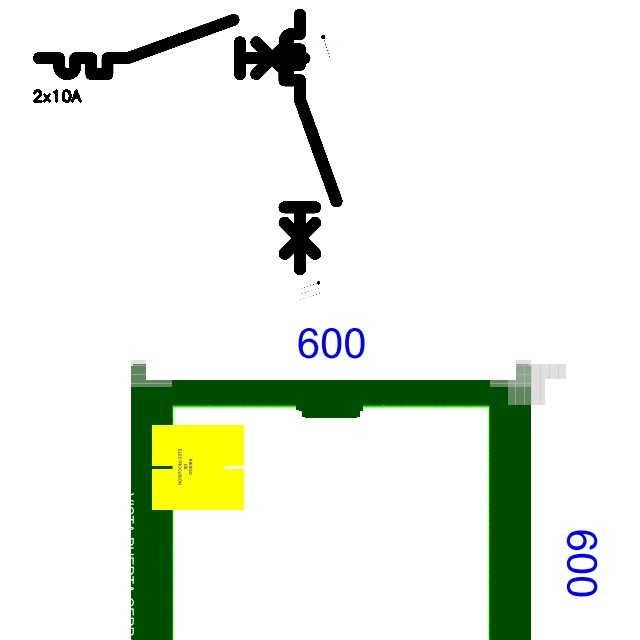interruptor_termomagnetico: (32, 13, 311, 81), (278, 8, 343, 275)
